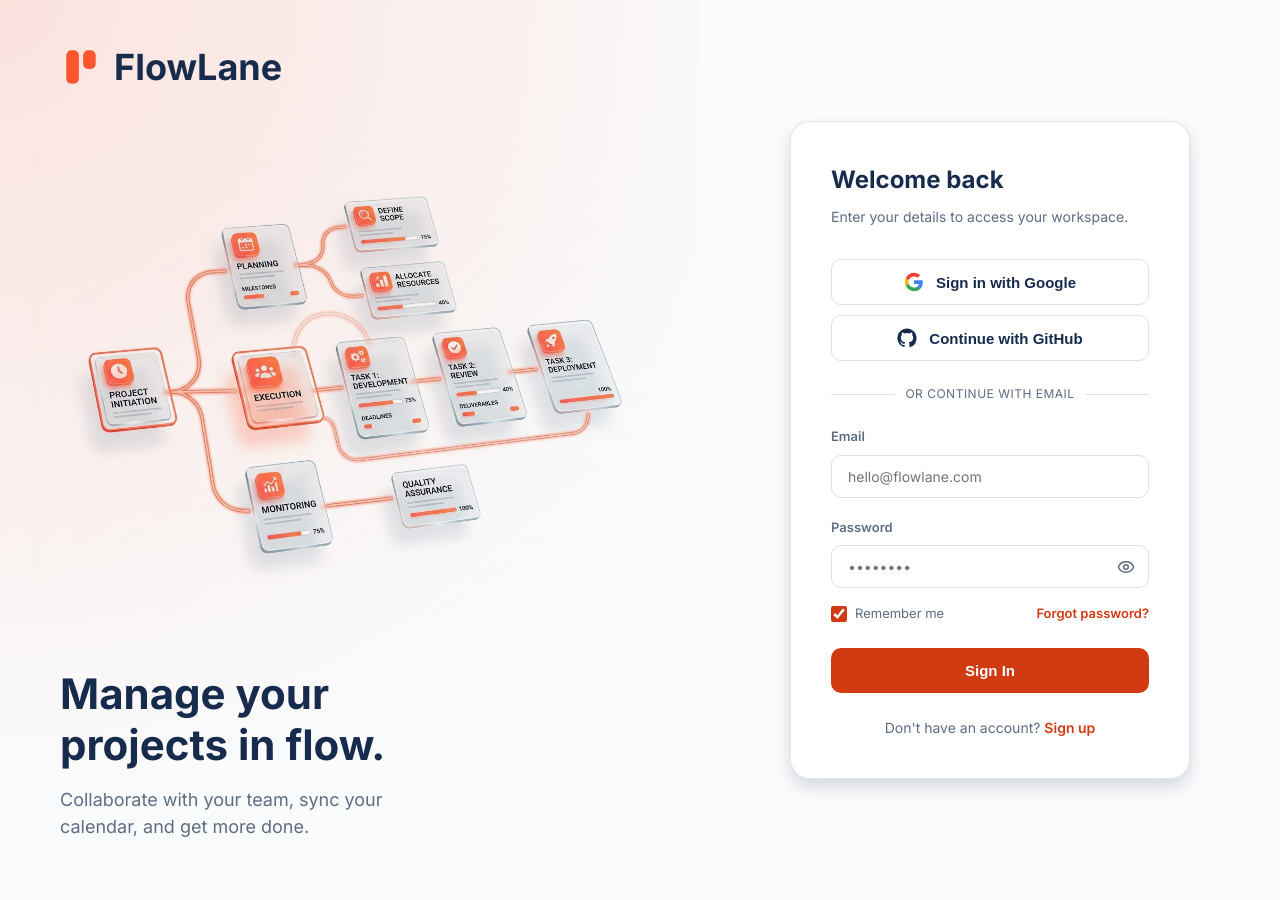
Scenario: Auth page › sign-up mode hides the forgot link and shows the strength meter
Step 1. Click the text "Sign up" → (1070, 727), box [1044, 719, 1095, 736]
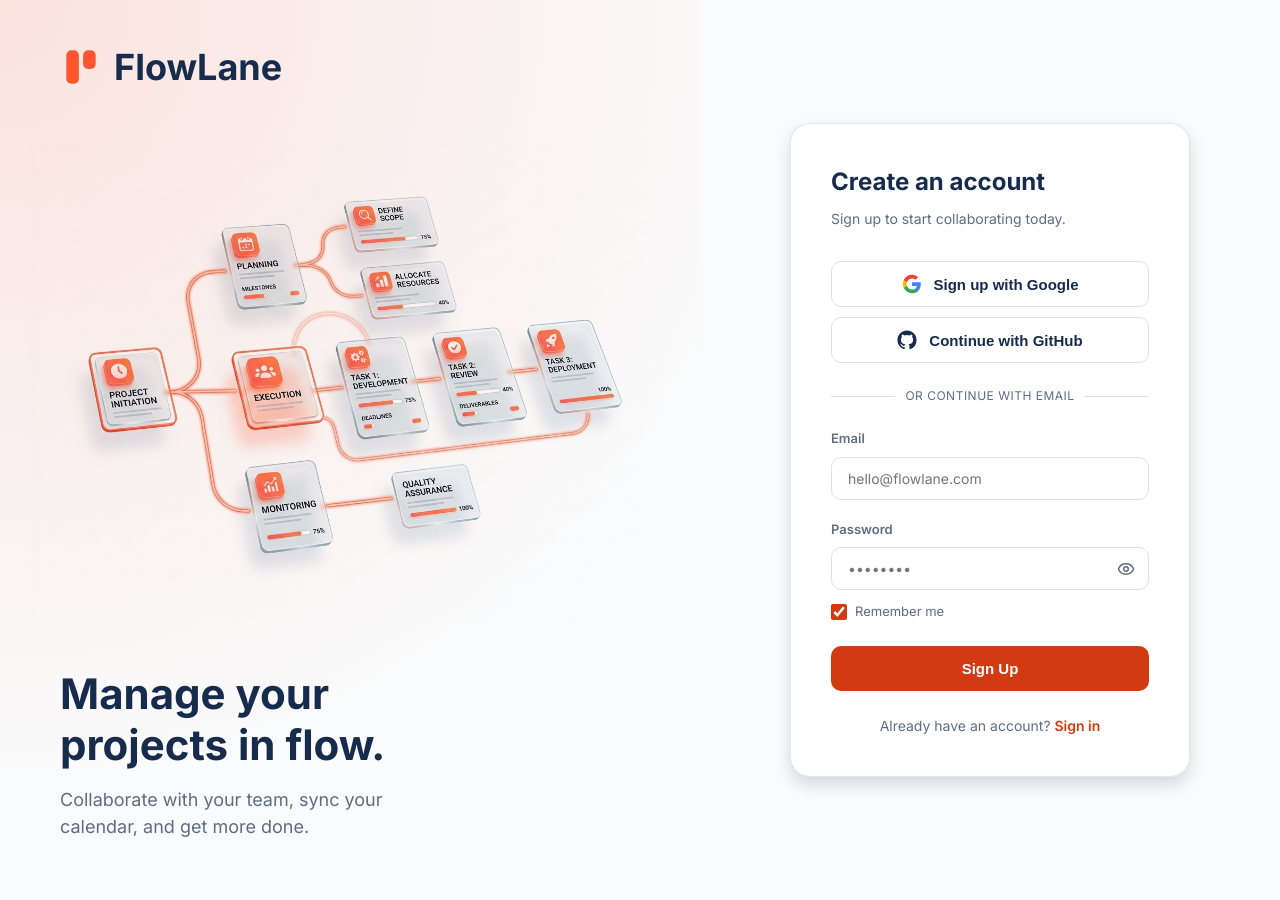
Expected: the link "Forgot password?" is gone
Step 2. Type "abc" into the password field labelled "Password" → (990, 569), box [831, 547, 1149, 590]
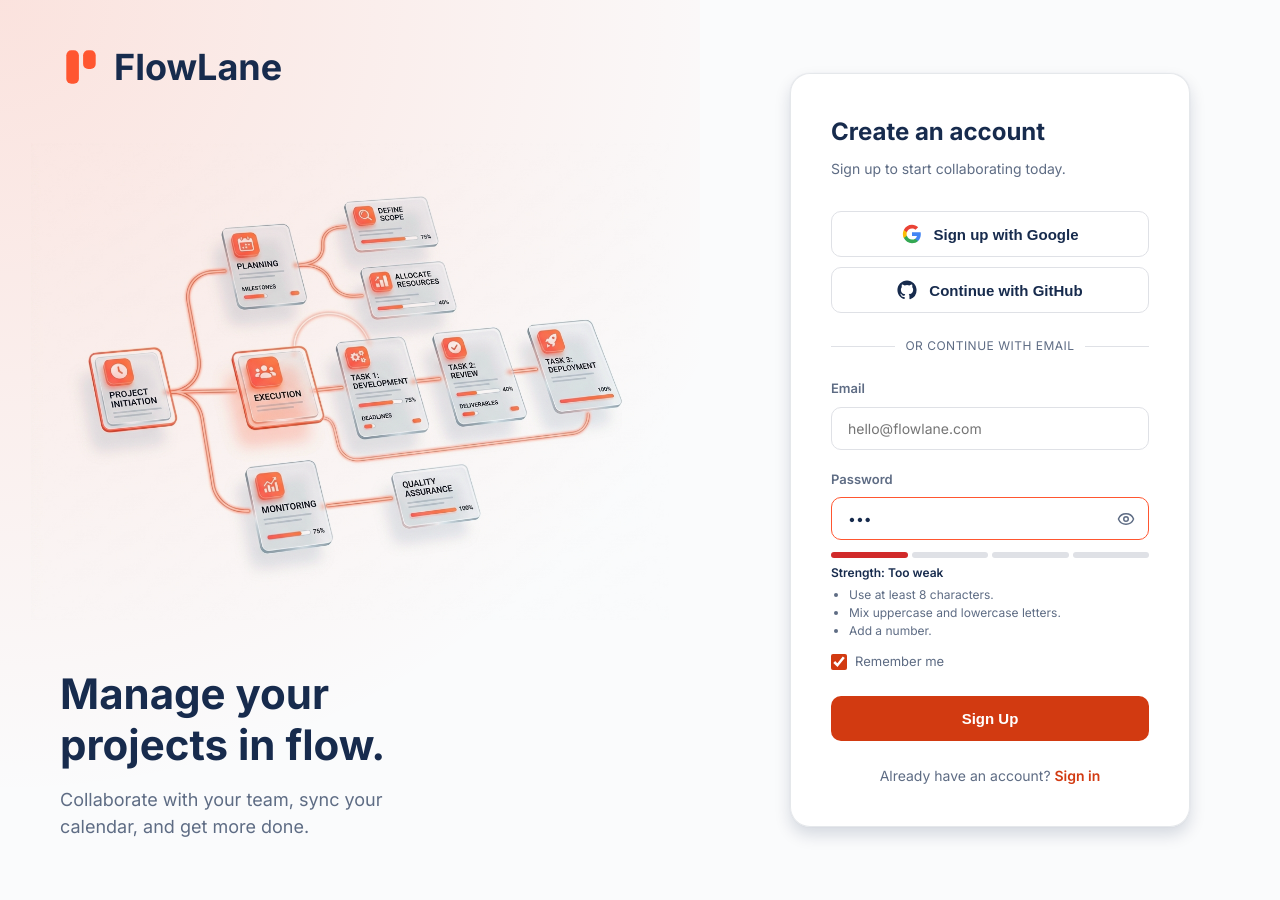
Expected: the element named "Password strength" is shown, [831, 552, 1149, 558]
